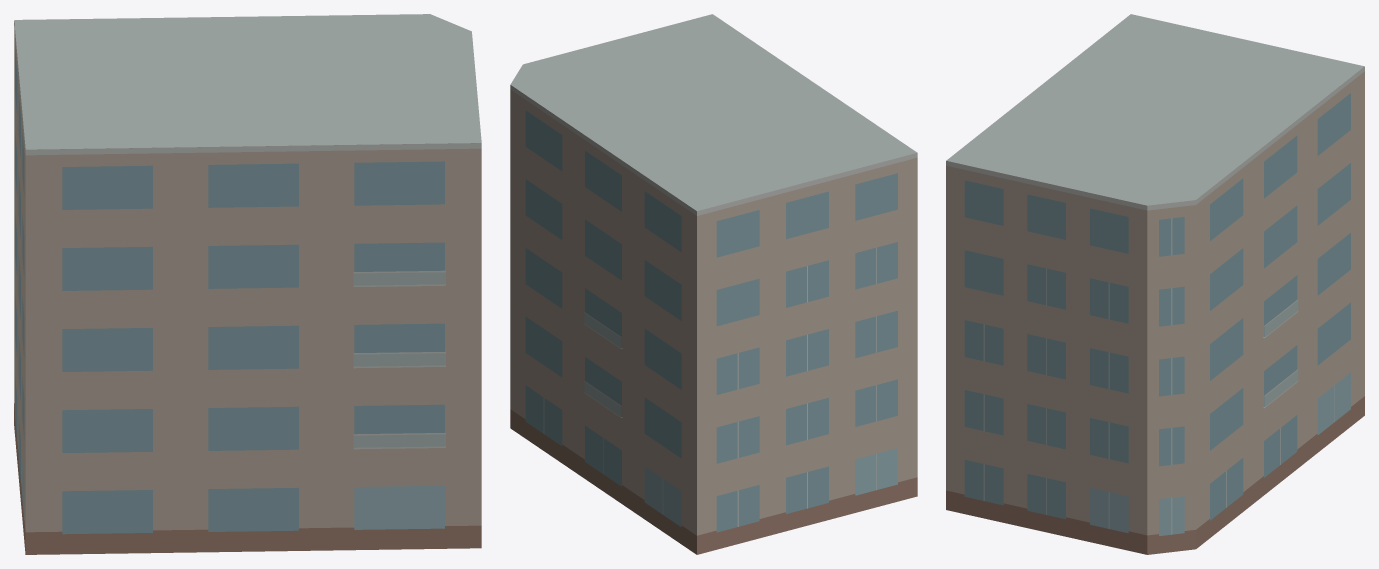
Rendered from survey-upis-33002492.glb.
3 renders of one model, left to right at view 1: azimuth 30°, elevation 25°; view 2: azimuth 150°, elevation 25°; view 3: azimuth 270°, elevation 25°, orthographic. The views are drawn at different scales.
Visible parts, largest first — view 1: survey-upis-33002492.tmp; view 2: survey-upis-33002492.tmp; view 3: survey-upis-33002492.tmp.
Boxes of the visible parts, x1,y1,x2,y2 form: survey-upis-33002492.tmp: [14, 14, 481, 554]; survey-upis-33002492.tmp: [510, 14, 917, 554]; survey-upis-33002492.tmp: [946, 14, 1364, 554].
Size of the model in its own units: 20.55 by 17.45 by 18.97.
